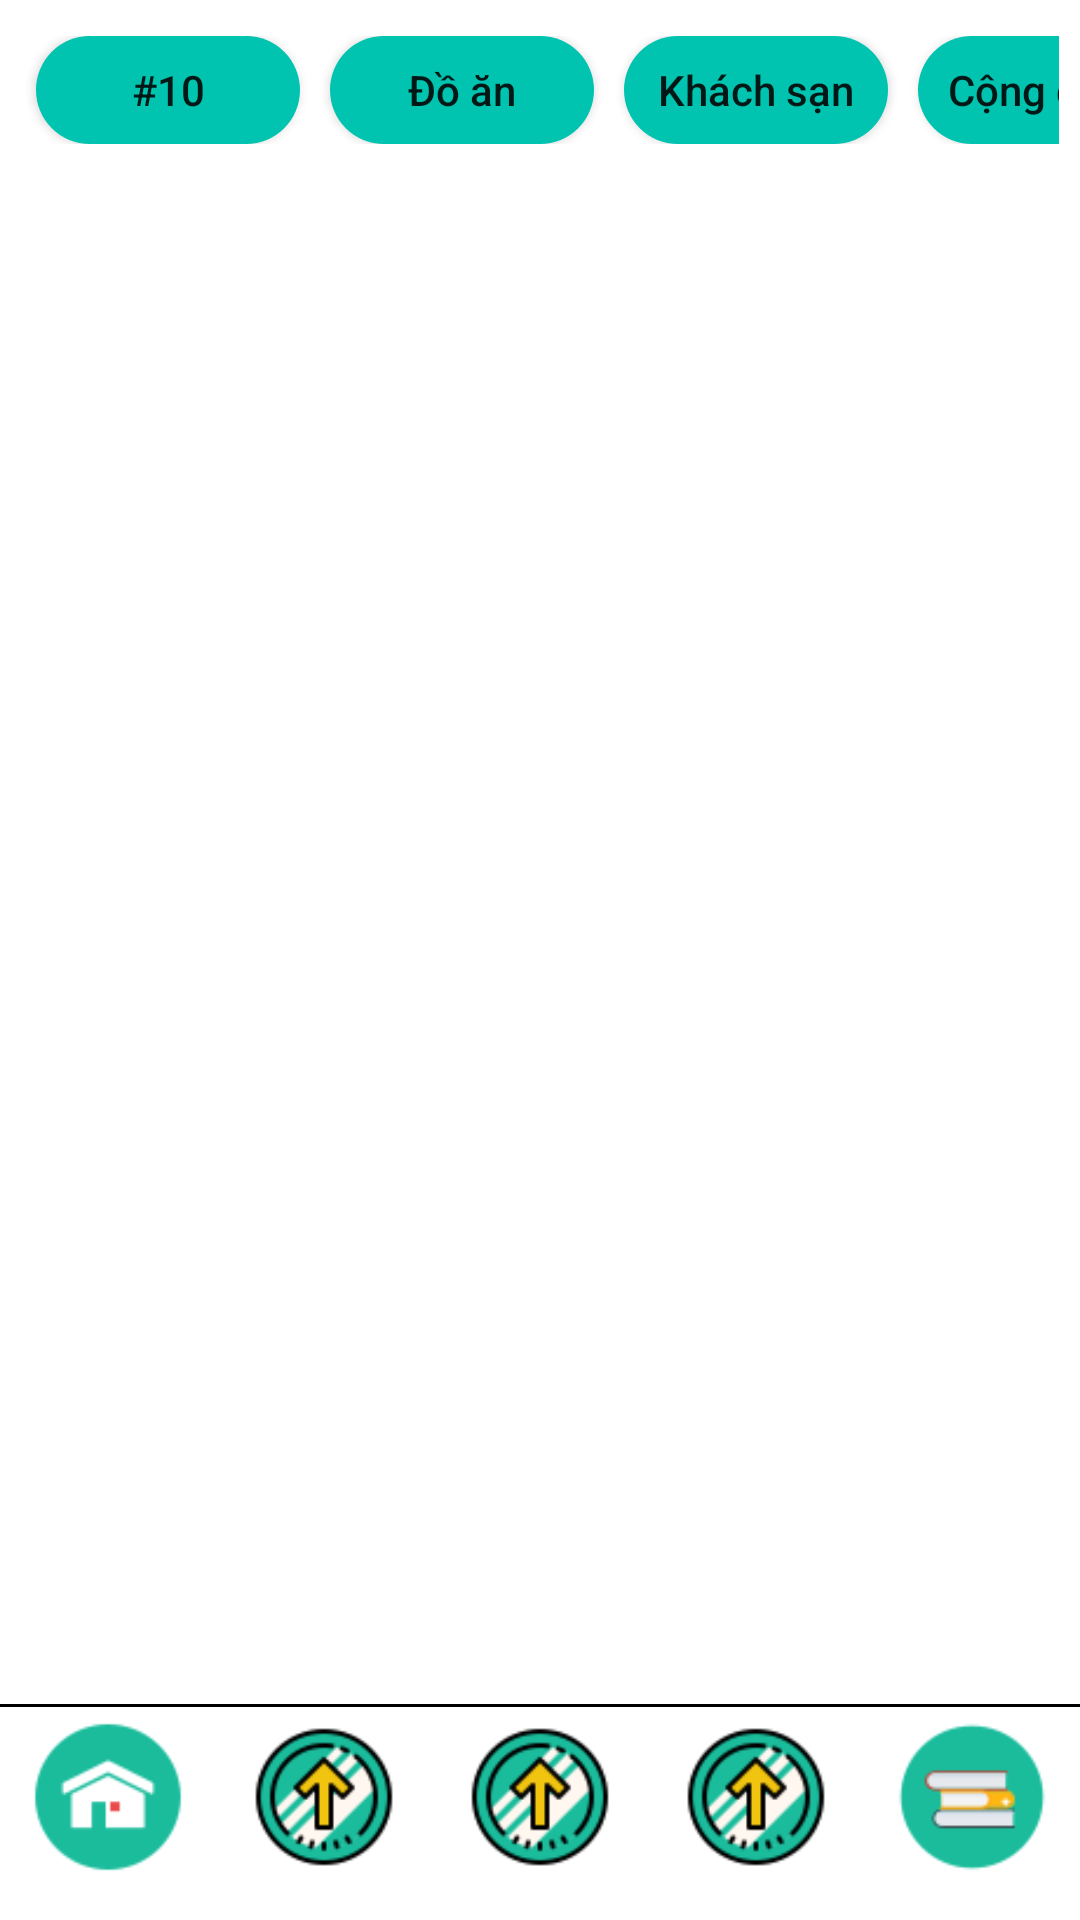

Icon bounding boxes for this 1080x1920 phone screenshot, format (x1, y1, x2, y2):
book: (899, 1724, 1045, 1870)
home: (34, 1723, 182, 1871)
update: (255, 1728, 393, 1866), (471, 1728, 609, 1866), (687, 1728, 825, 1866)
